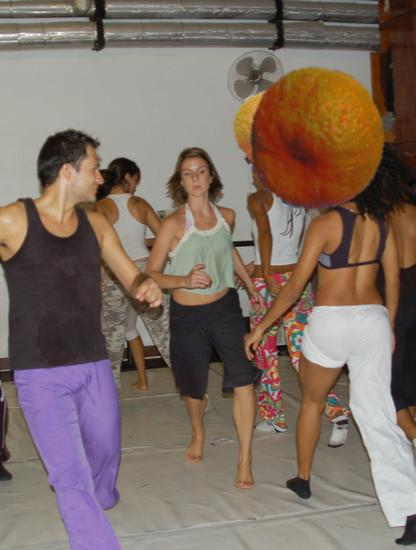Mandarine: (245, 67, 390, 212), (230, 85, 334, 189)
